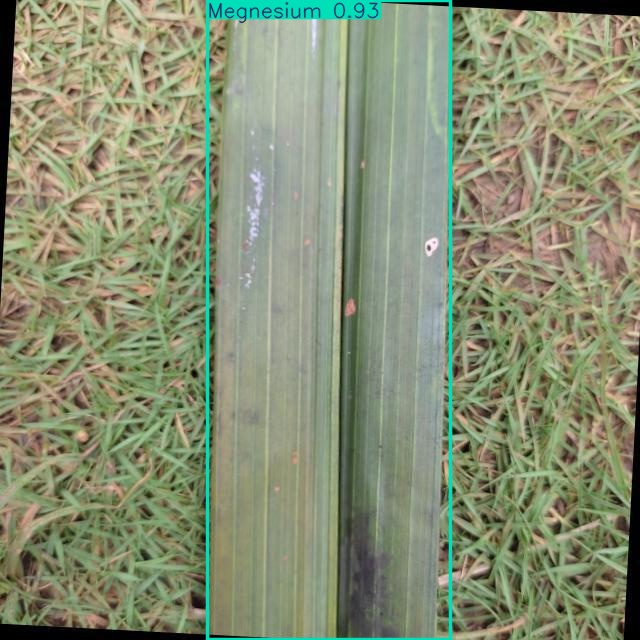Megnesium: (208, 1, 451, 639)
